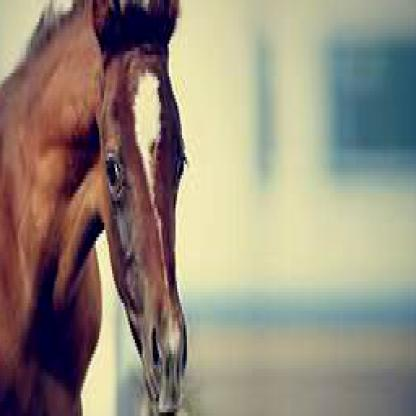horse: (1, 0, 187, 413)
